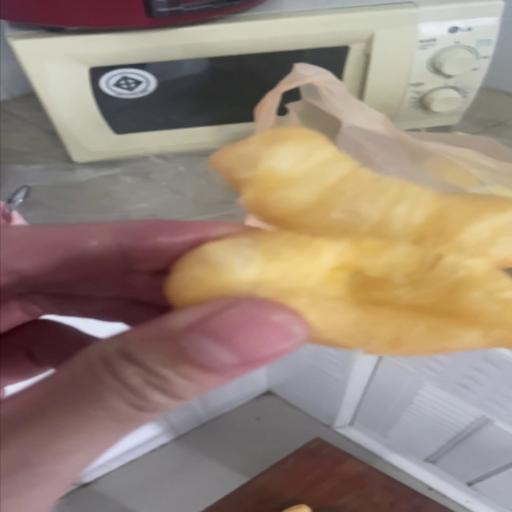street_golden_good: (165, 126, 512, 356)
